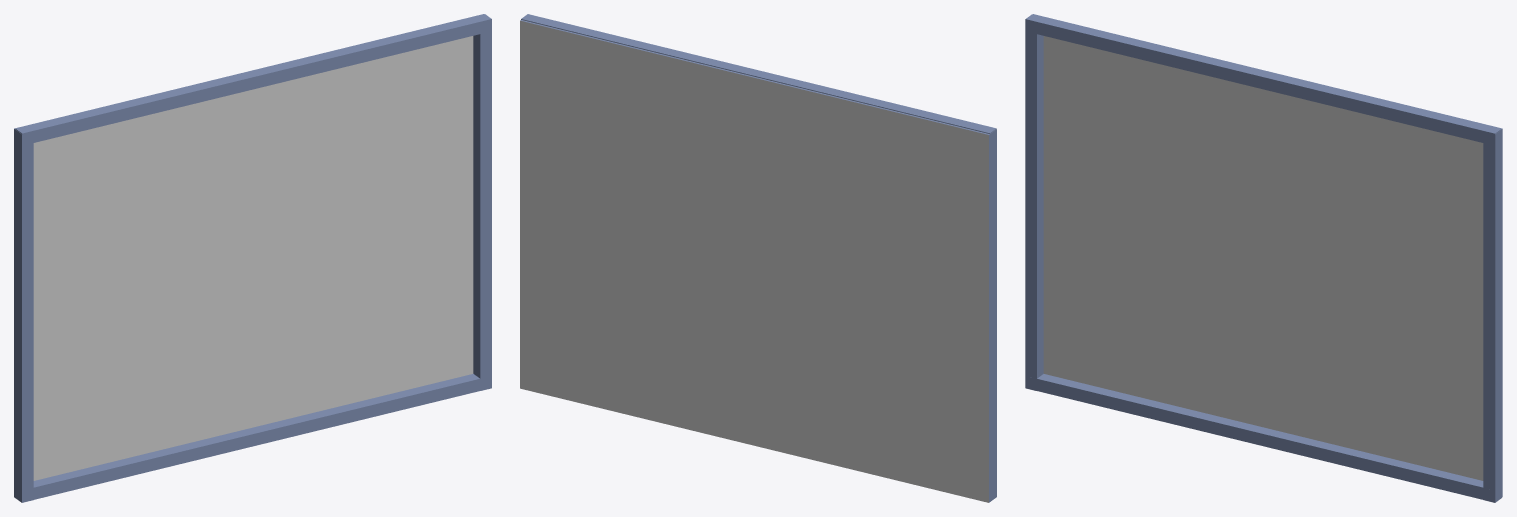
Rendered from monitor.glb.
3 renders of one model, left to right at view 1: azimuth 30°, elevation 25°; view 2: azimuth 150°, elevation 25°; view 3: azimuth 330°, elevation 25°, orthographic.
Parts seen in each view (by area): view 1: Monitor; view 2: Monitor; view 3: Monitor.
Part boxes in pixels (x1,y1,x2,y2): Monitor: [14, 14, 491, 502]; Monitor: [520, 14, 996, 502]; Monitor: [1025, 14, 1502, 502].
Size of the model in its own units: 8.01 by 6.01 by 0.2352.
